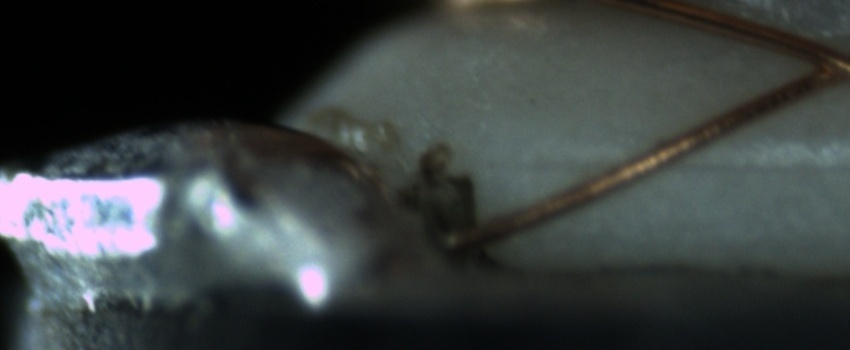CL: (792, 34, 850, 91)
DL: (508, 131, 849, 195)
